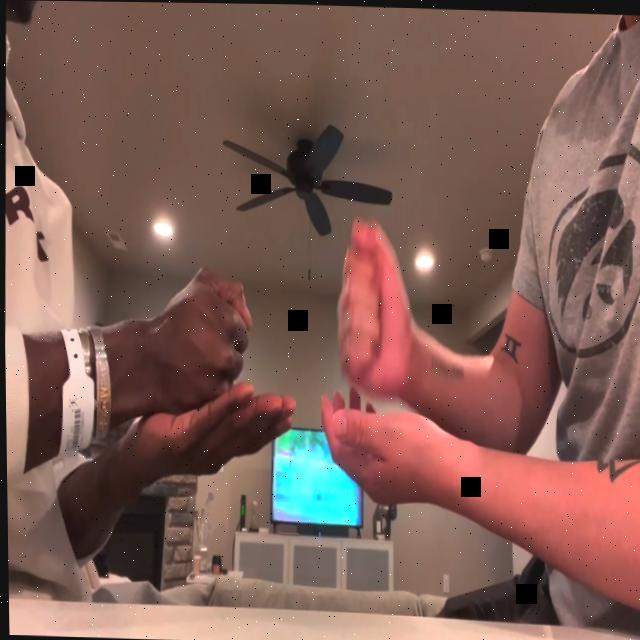Rock: (149, 258, 253, 410), (332, 216, 415, 401)
